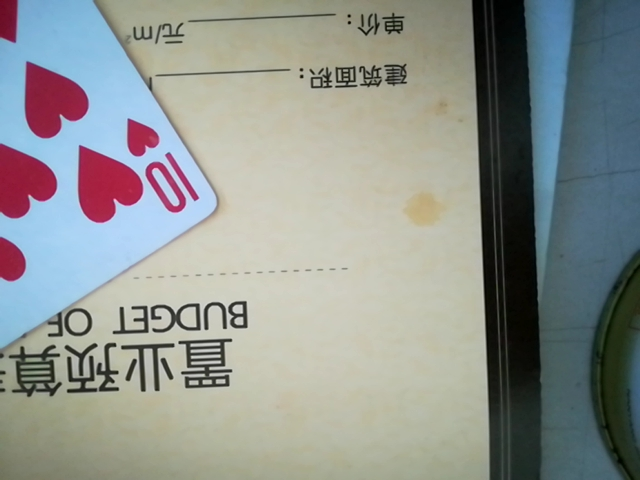hx 10: (2, 0, 217, 396)
